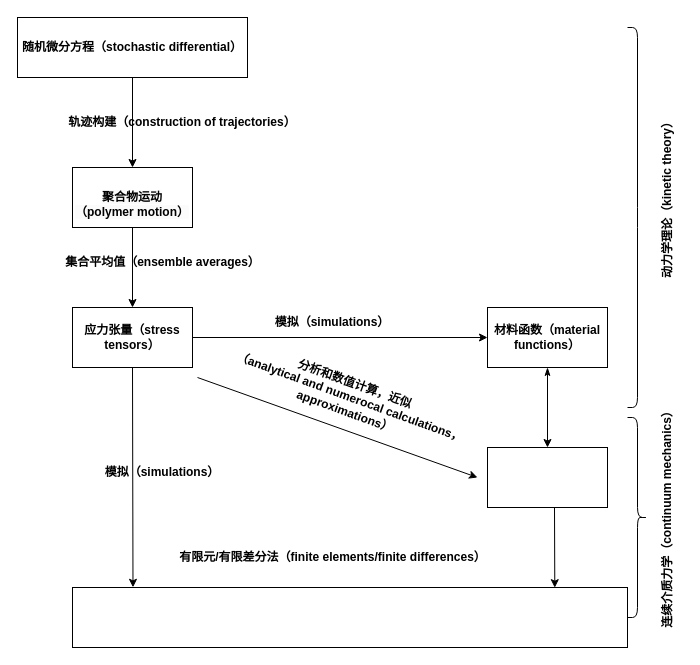
Image size: 700x665. Some labels were removed from this diagram. The centre of each missing label's shape, as x and y in pixels:
本构方程（constitutive equations）: (x=547, y=477)
聚合物流体动力学：复杂流动（polymer fluid dynamics:complex flows）: (x=350, y=617)
